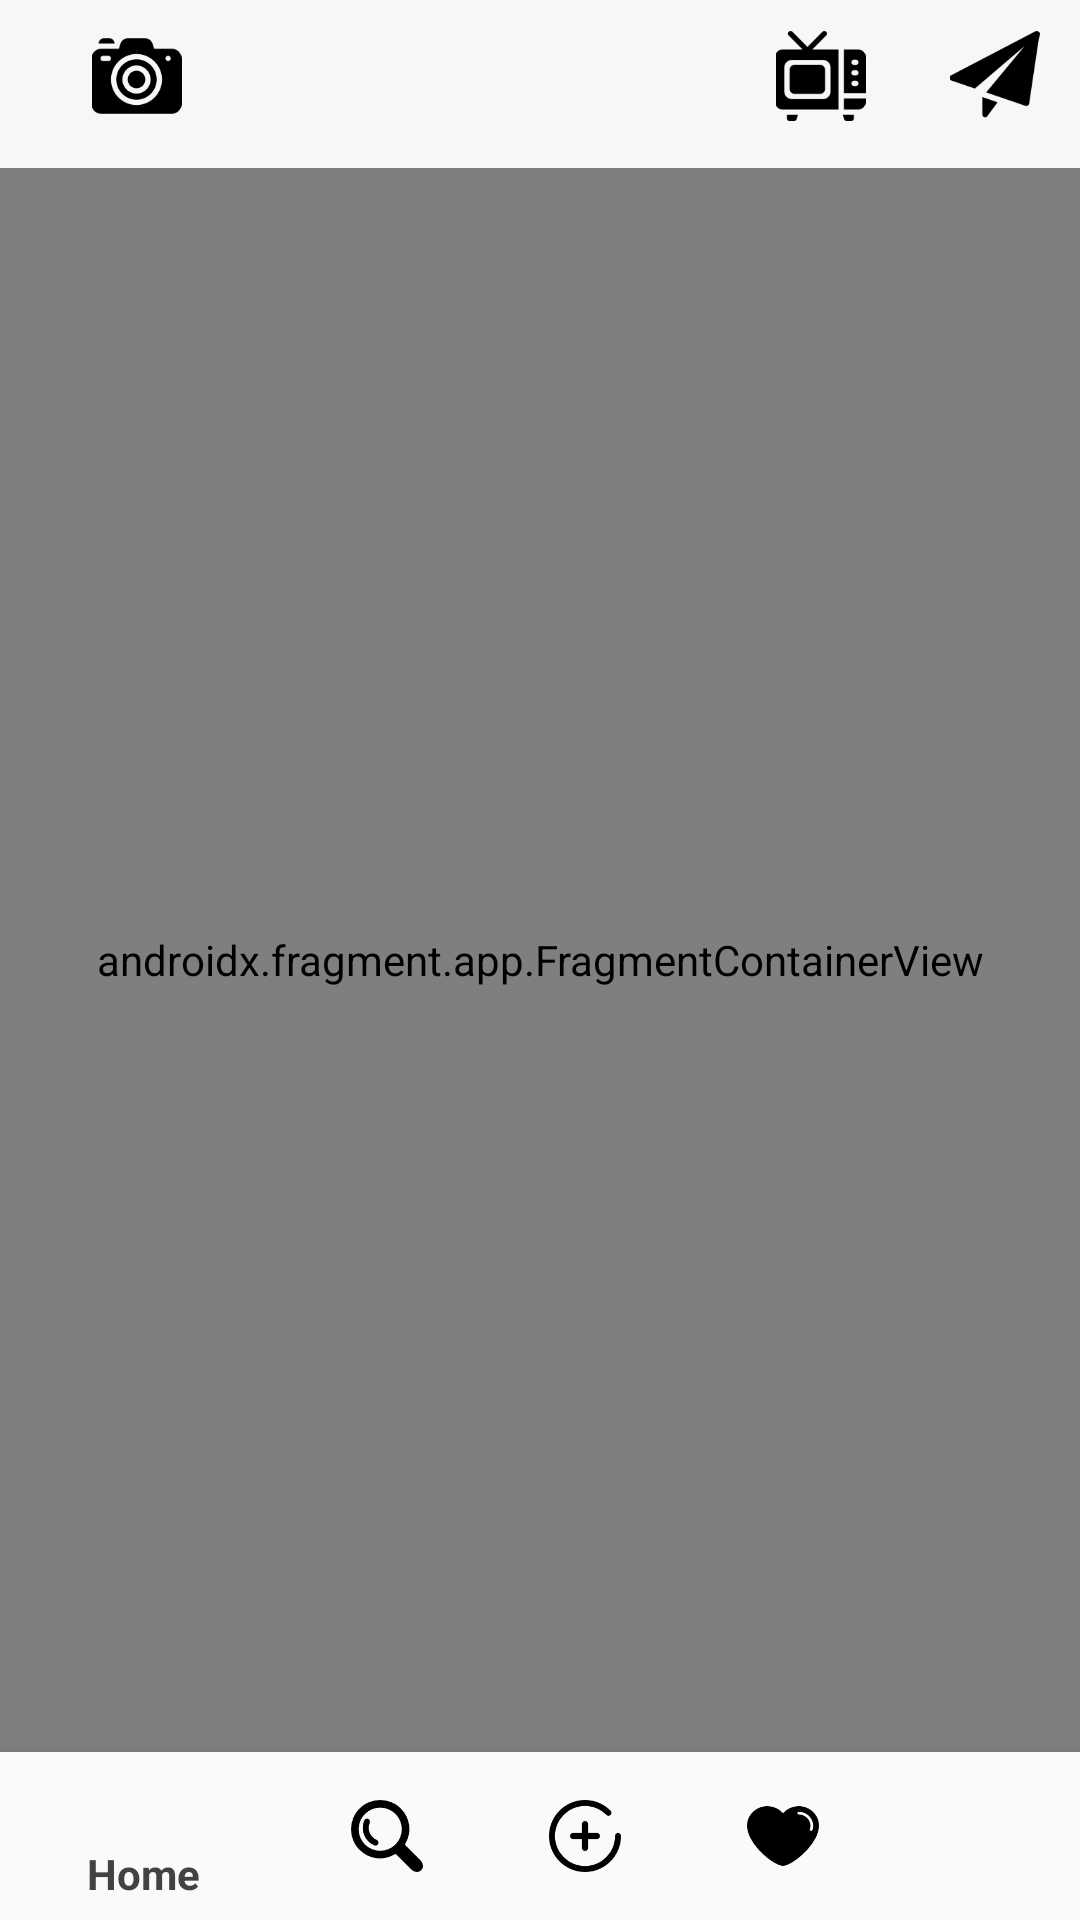

Screen size 1080px×1920px. Icon name, then its center in pixels as [x,y]:
camera: [137,76]
itv: [821,76]
send: [995,74]
